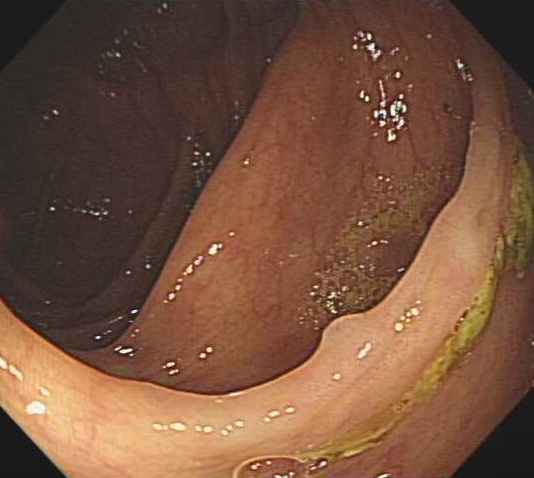adenoma: (314, 311, 366, 346)
